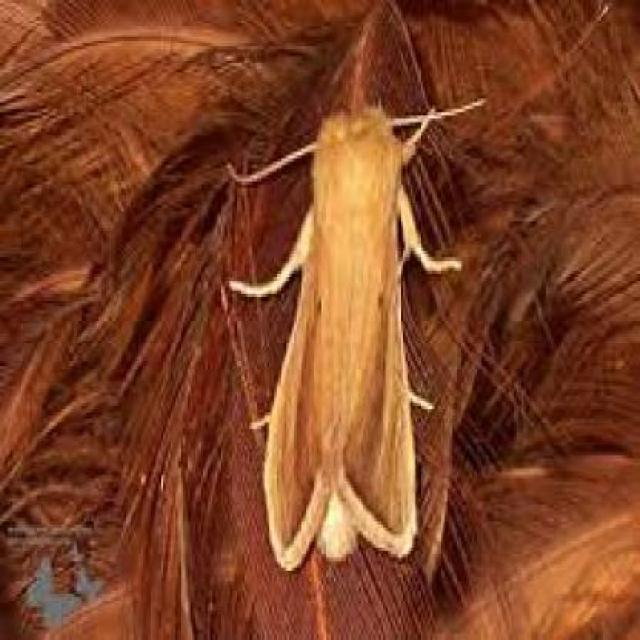stem-borer: (260, 99, 428, 575)
